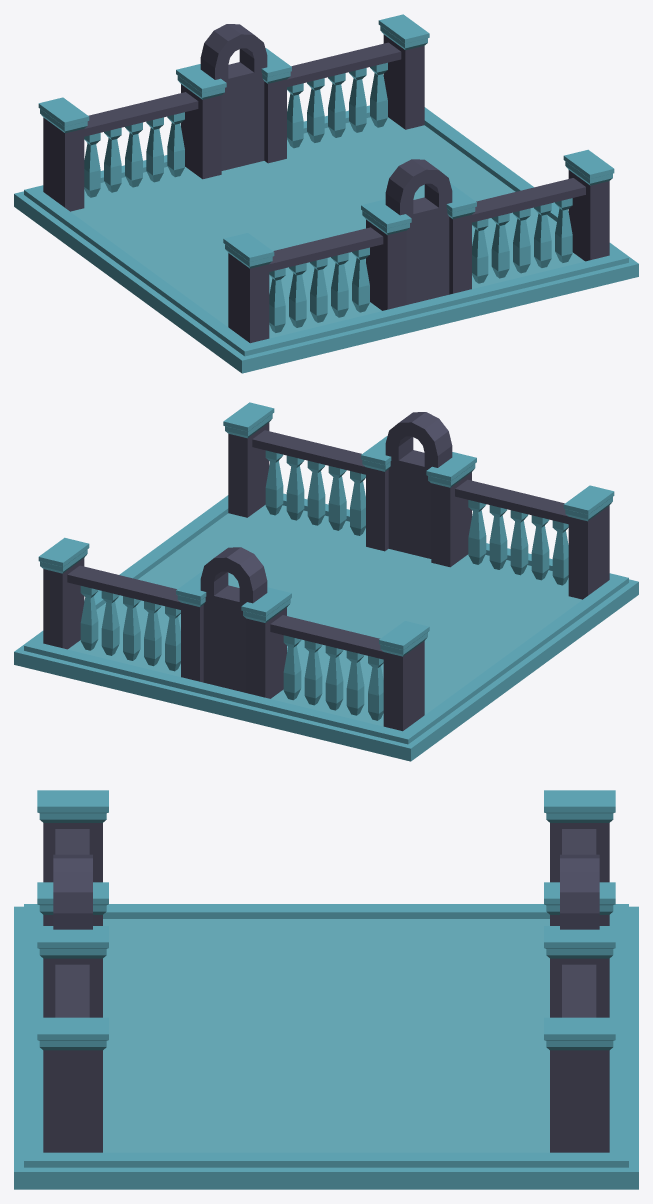
File: SM_Bld_Cuba_Roof_Square_01.glb
The picture shows the model from 3 angles, top to bottom: view 1: azimuth 30°, elevation 25°; view 2: azimuth 150°, elevation 25°; view 3: azimuth 270°, elevation 25°; orthographic projection. The views are drawn at different scales.
Parts seen in each view (by area): view 1: SM_Bld_Cuba_Roof_Square_01; view 2: SM_Bld_Cuba_Roof_Square_01; view 3: SM_Bld_Cuba_Roof_Square_01.
Part boxes in pixels (x1=…): SM_Bld_Cuba_Roof_Square_01: x1=14, y1=14, x2=638, y2=373; SM_Bld_Cuba_Roof_Square_01: x1=14, y1=402, x2=638, y2=761; SM_Bld_Cuba_Roof_Square_01: x1=14, y1=790, x2=638, y2=1189.
Size of the model in its own units: 0.0424 by 0.0148 by 0.0422.
